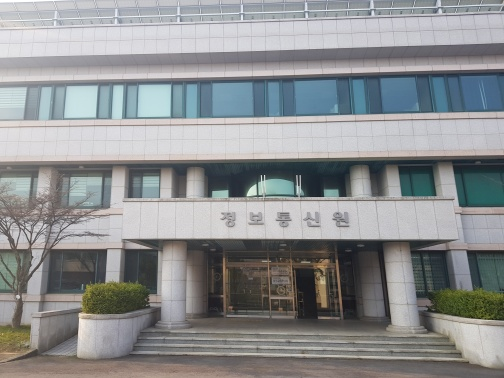Information Telecommunication Center: (4, 10, 499, 333), (184, 150, 409, 331), (214, 189, 356, 325)
